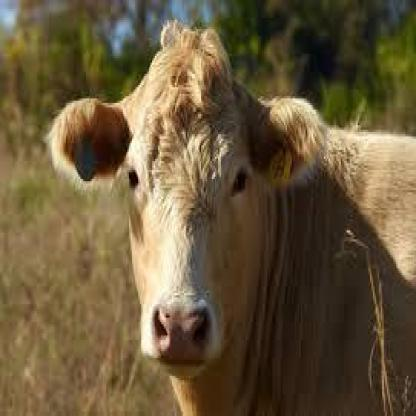cow: (57, 36, 416, 416)
